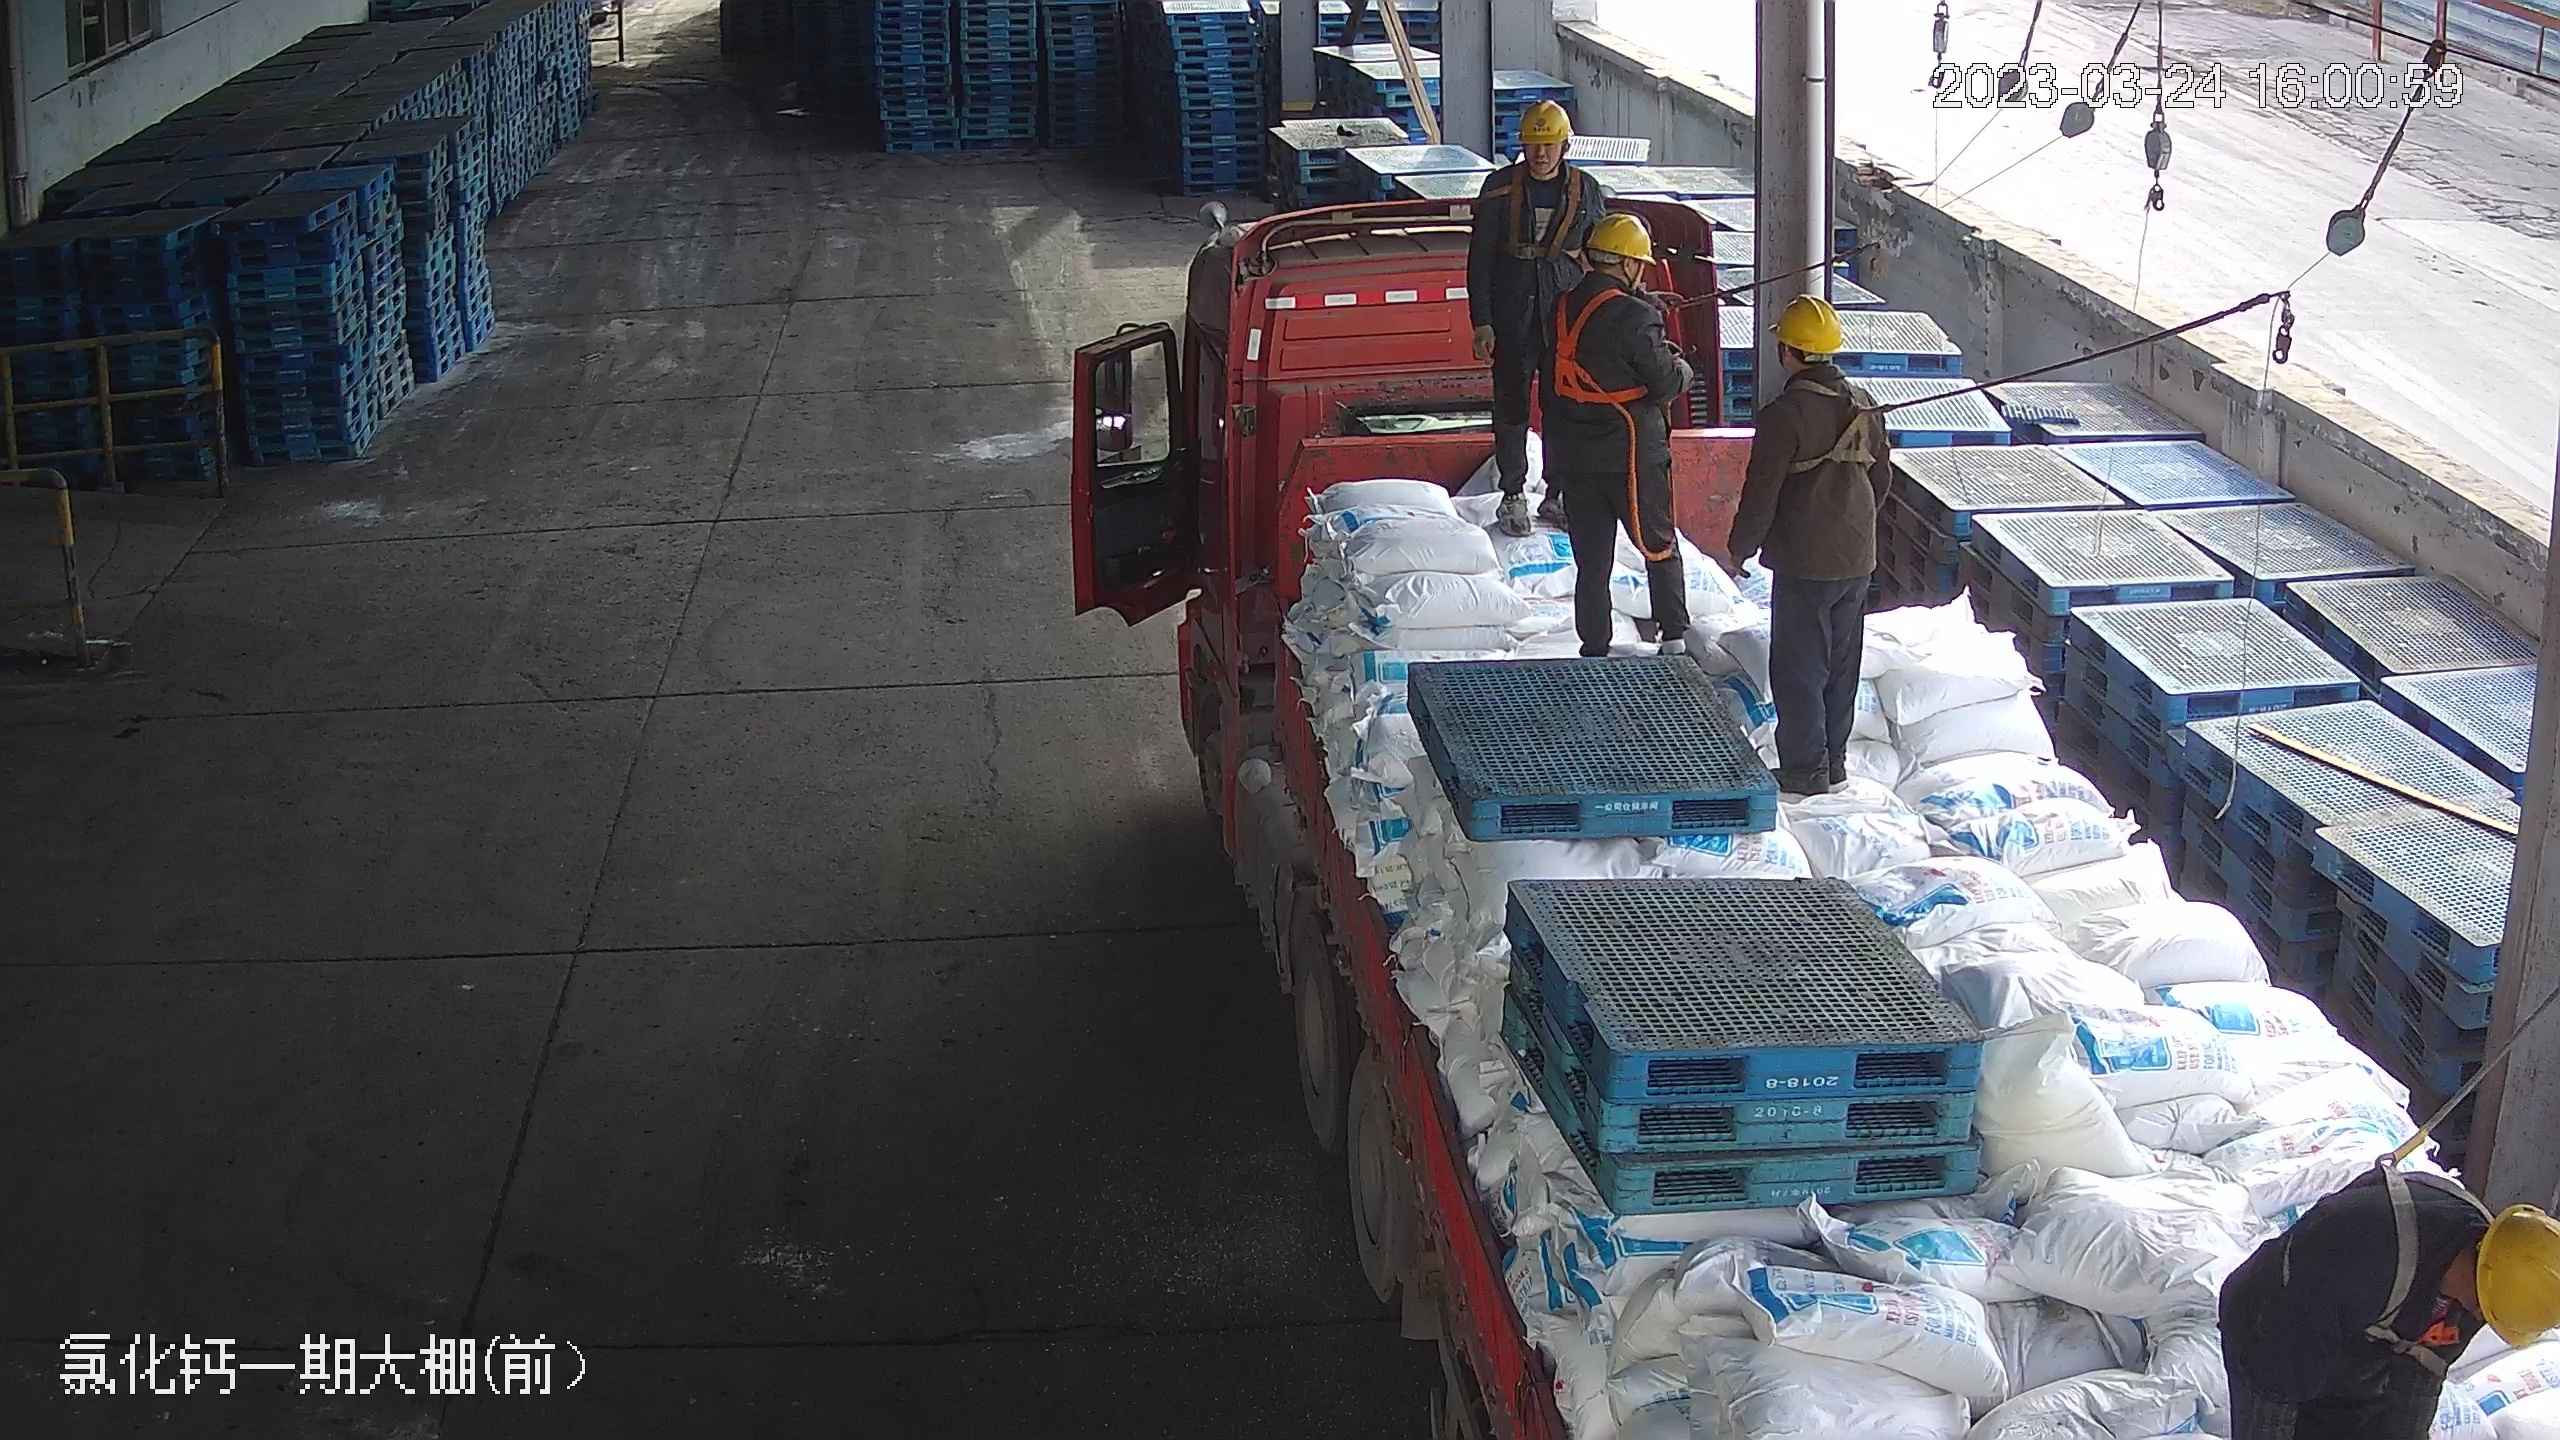belt: (2306, 1127, 2476, 1355), (1547, 281, 1651, 405), (1782, 372, 1888, 479), (1499, 162, 1585, 256)
head: (1744, 298, 1886, 448), (1478, 98, 1595, 210)
helmet: (2476, 1202, 2560, 1353), (1771, 294, 1847, 354), (1580, 210, 1654, 264), (1514, 97, 1574, 143)
people: (2218, 1153, 2560, 1440), (1726, 292, 1897, 801), (1538, 216, 1699, 649), (1468, 106, 1600, 535)
truck: (1116, 190, 2511, 1440)
